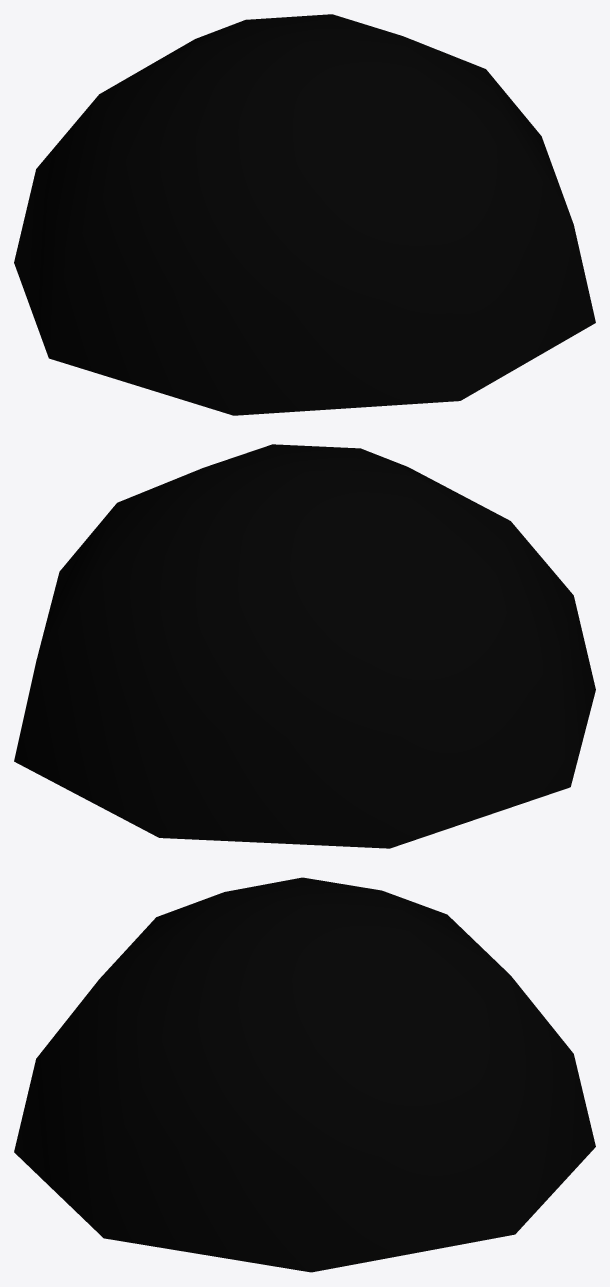
Rendered from breadStationMainObject.fbx.
3 renders of one model, top to bottom at view 1: azimuth 30°, elevation 25°; view 2: azimuth 150°, elevation 25°; view 3: azimuth 270°, elevation 25°, orthographic. The views are drawn at different scales.
Parts seen in each view (by area): view 1: breadDarkOutGeo; view 2: breadDarkOutGeo; view 3: breadDarkOutGeo.
Boxes of the visible parts, <box> form: breadDarkOutGeo: <box>14,14,595,415</box>; breadDarkOutGeo: <box>14,444,595,848</box>; breadDarkOutGeo: <box>14,877,595,1272</box>.
Bounding box in the file's own units: 581 × 270 × 581.
